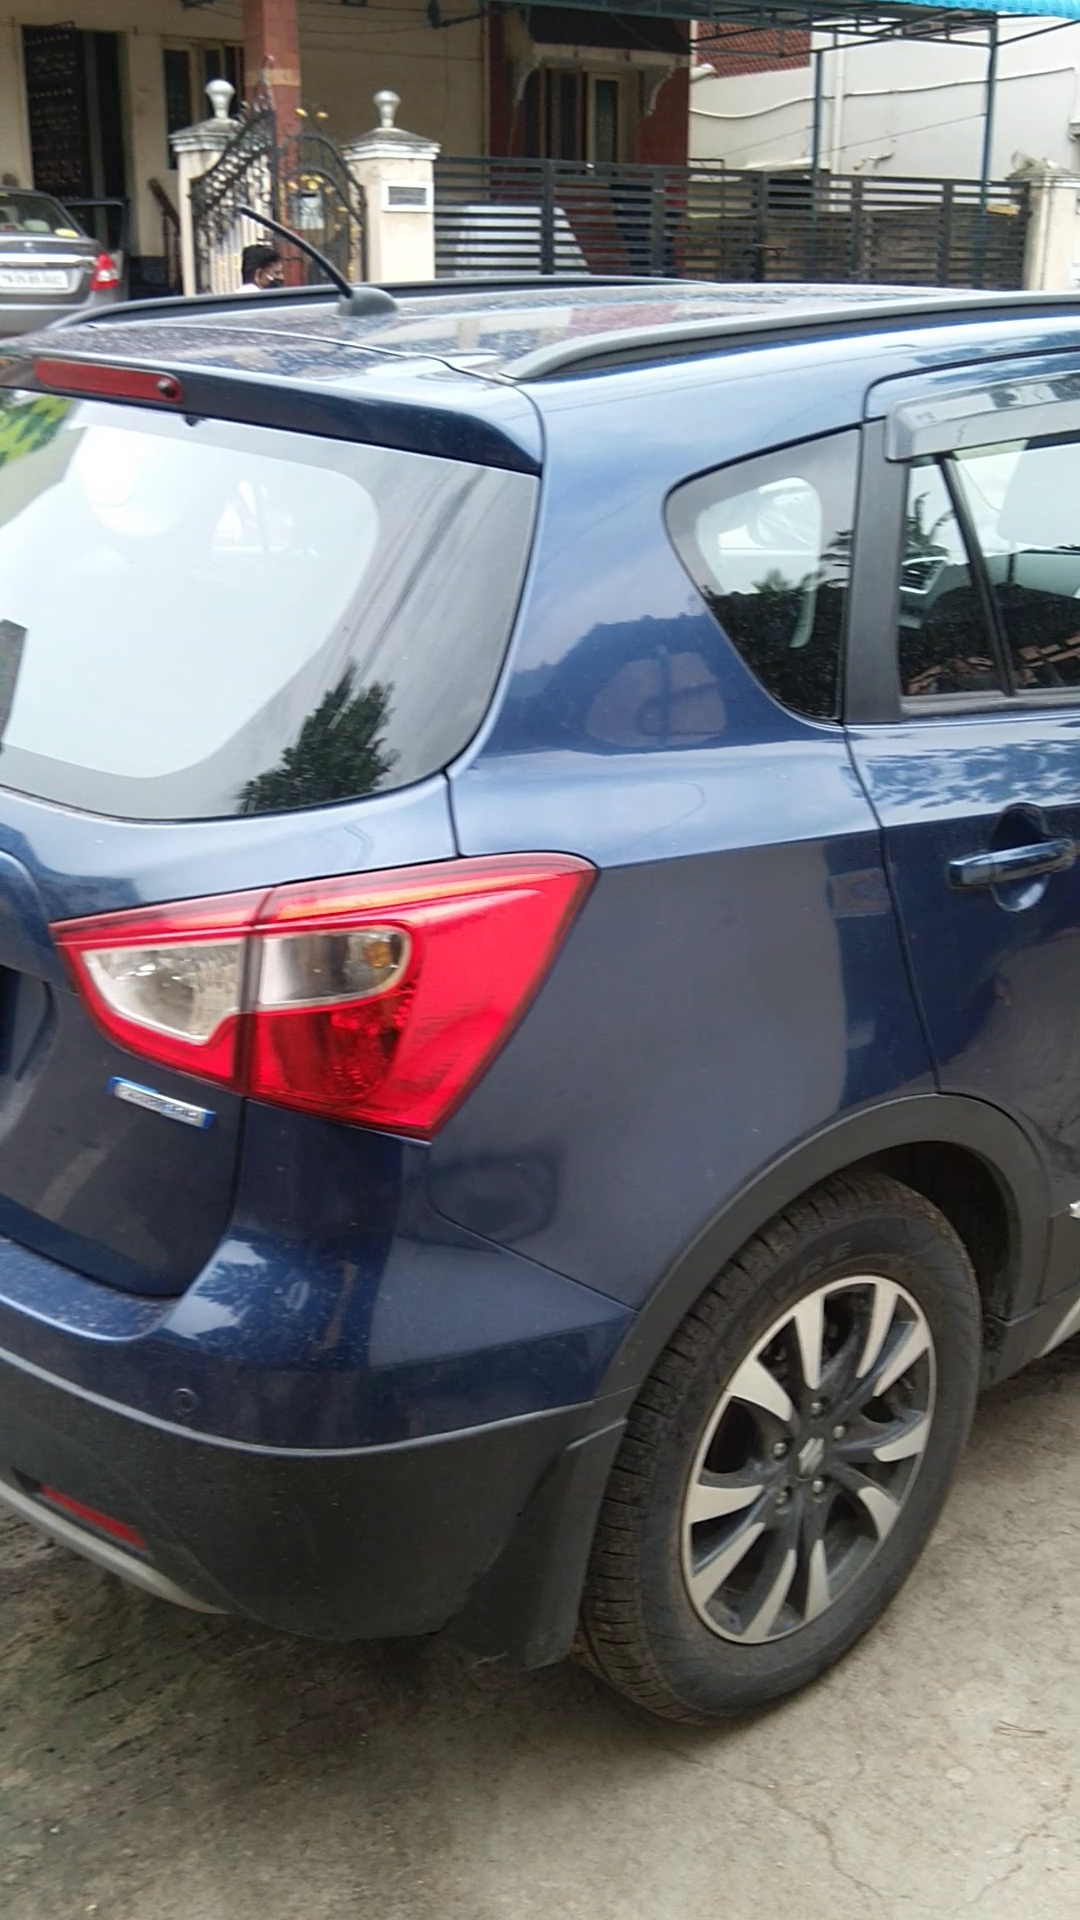alloy_wheel: (591, 1178, 986, 1741)
rear_camera: (144, 365, 186, 402)
shvs: (96, 1062, 225, 1147)
